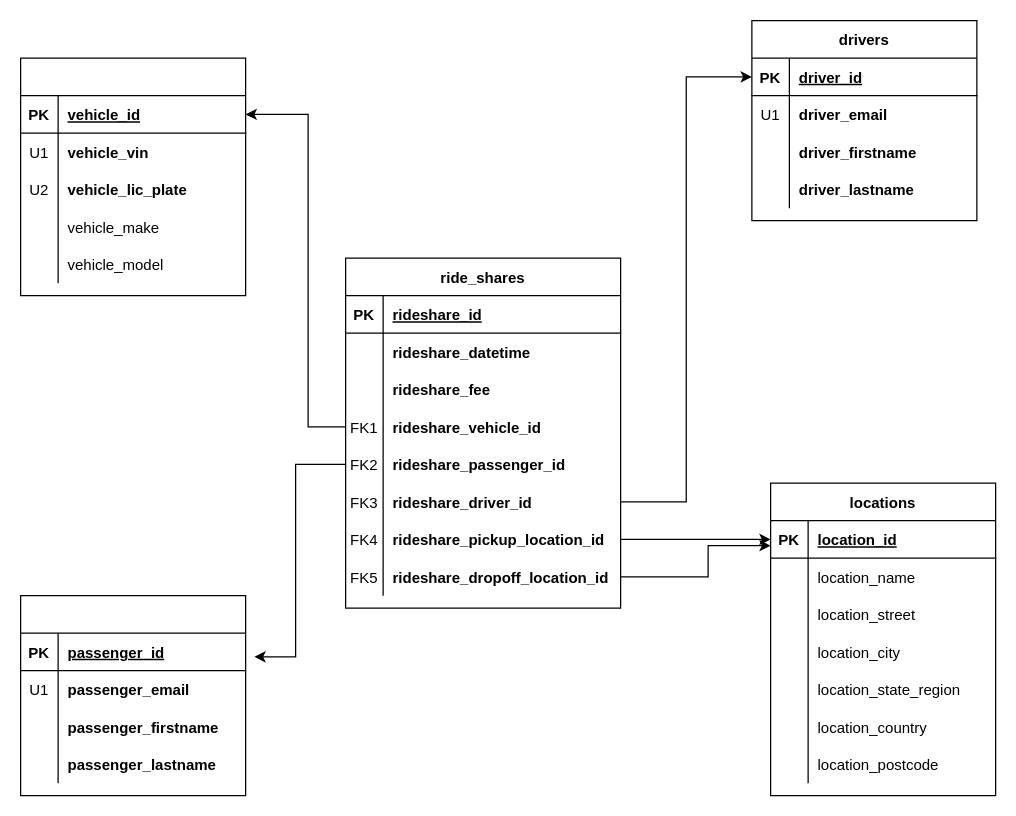
Some shapes in this 1016 by 816 pixel diagram are drawn without their labels. Here are the shapes that lost their labels. From the top down, the box of each, then its label:
(19, 57, 246, 296): vehicles
(19, 594, 246, 796): passengers
